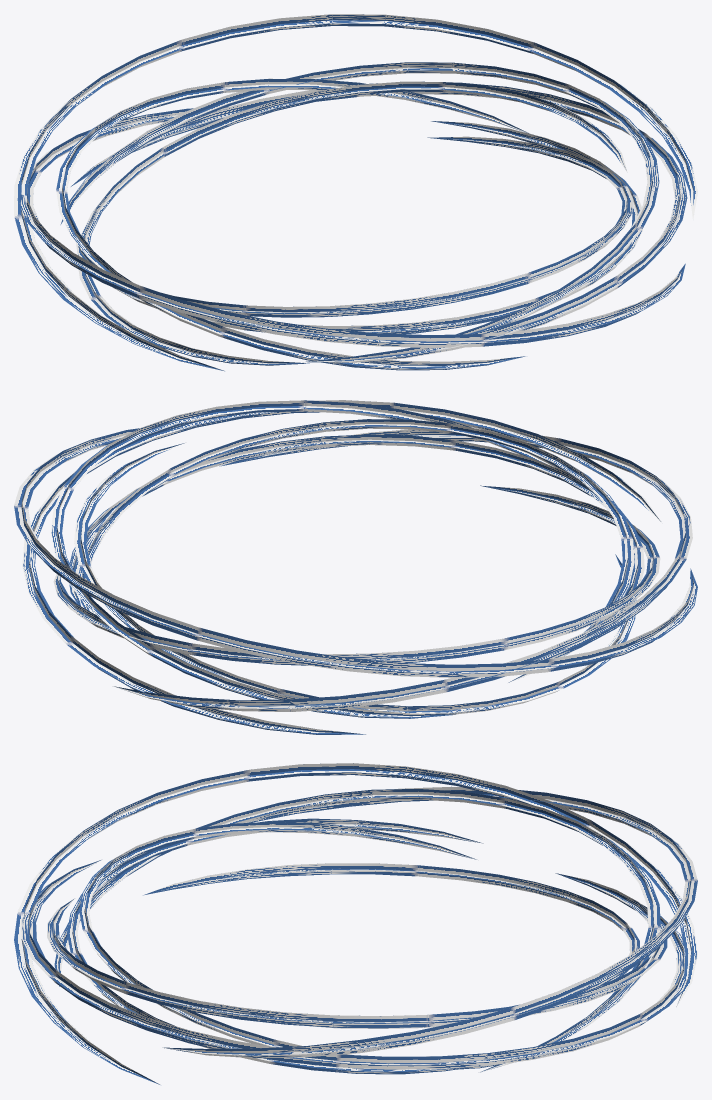
File: Rui_WebDome1.fbx
3 renders of one model, top to bottom at view 1: azimuth 30°, elevation 25°; view 2: azimuth 150°, elevation 25°; view 3: azimuth 270°, elevation 25°, orthographic.
Visible parts, largest first — view 1: SM_e_DLC_Plc_P1007_WebDome001; view 2: SM_e_DLC_Plc_P1007_WebDome001; view 3: SM_e_DLC_Plc_P1007_WebDome001.
Part boxes in pixels (box(x1,y1,x2,y2)): SM_e_DLC_Plc_P1007_WebDome001: box(14, 14, 697, 371); SM_e_DLC_Plc_P1007_WebDome001: box(14, 400, 697, 734); SM_e_DLC_Plc_P1007_WebDome001: box(14, 763, 697, 1084).
Bounding box in the file's own units: 508 × 93.72 × 500.
